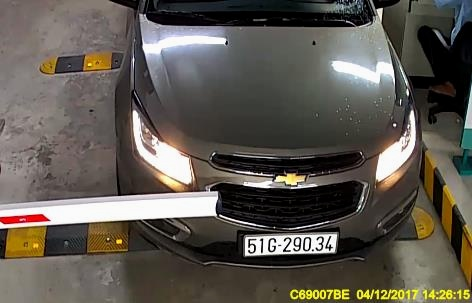plate: (242, 231, 337, 257)
